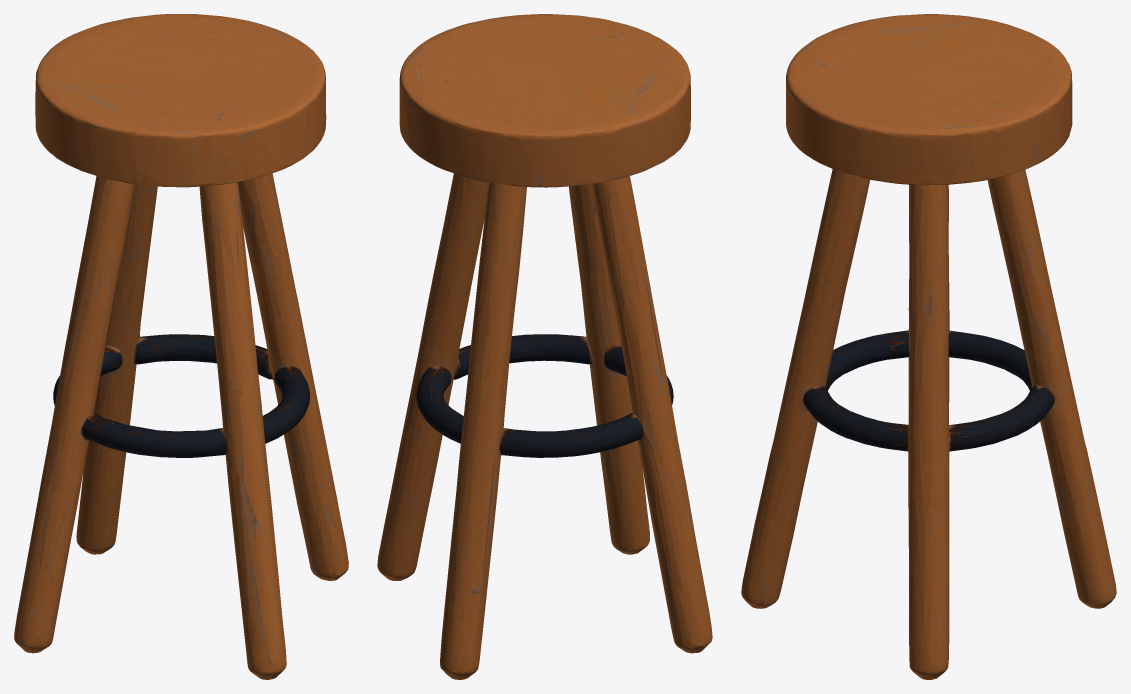
Rendered from bar_stool.glb.
3 views of the same model, side by side, from view 1: azimuth 30°, elevation 25°; view 2: azimuth 150°, elevation 25°; view 3: azimuth 270°, elevation 25° (orthographic).
Size of the model in its own units: 1.21 by 1.9 by 1.22.
1 material, 1 textured.
